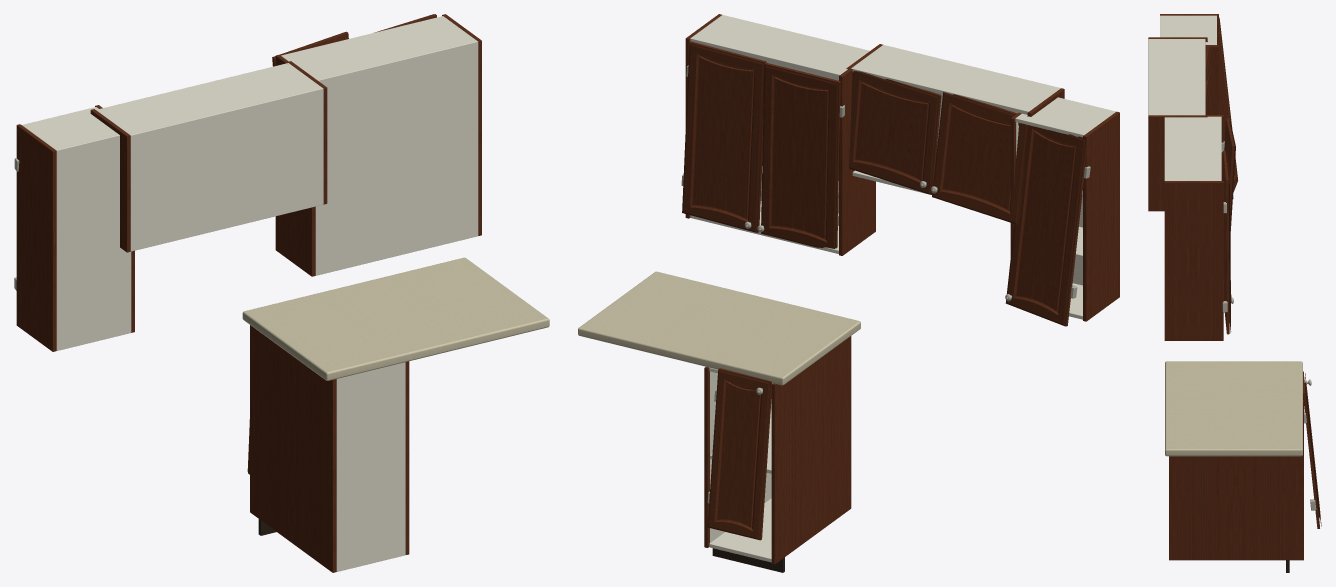
The model's file is cabinetry_shell__rear_run.glb.
The picture shows the model from 3 angles, left to right: view 1: azimuth 30°, elevation 25°; view 2: azimuth 150°, elevation 25°; view 3: azimuth 270°, elevation 25°; orthographic projection. The views are drawn at different scales.
Visible parts, largest first — view 1: upper_microwave_carcass, upper_hood_carcass, microwave_base_carcass, upper_snack_carcass, microwave_landing_countertop; view 2: microwave_base_carcass, microwave_landing_countertop, upper_microwave_left, upper_microwave_right, upper_snack_door, upper_snack_carcass, upper_microwave_carcass, upper_hood_right, microwave_base_door, upper_hood_left, upper_hood_carcass; view 3: microwave_base_carcass, upper_microwave_carcass, microwave_landing_countertop, upper_hood_carcass, upper_snack_carcass, upper_microwave_left, upper_snack_door, microwave_base_door, upper_microwave_right, upper_hood_right.
Part boxes in pixels (x1,y1,x2,y2): upper_microwave_carcass: [275, 14, 481, 276]; upper_hood_carcass: [90, 61, 327, 252]; microwave_base_carcass: [250, 325, 409, 572]; upper_snack_carcass: [16, 105, 134, 351]; microwave_landing_countertop: [242, 257, 549, 380]; microwave_base_carcass: [704, 336, 851, 572]; microwave_landing_countertop: [578, 271, 860, 385]; upper_microwave_left: [681, 41, 766, 232]; upper_microwave_right: [757, 62, 844, 248]; upper_snack_door: [1005, 116, 1090, 326]; upper_snack_carcass: [1010, 97, 1119, 321]; upper_microwave_carcass: [685, 14, 875, 255]; upper_hood_right: [931, 92, 1027, 224]; microwave_base_door: [707, 368, 771, 540]; upper_hood_left: [849, 67, 941, 194]; upper_hood_carcass: [846, 44, 1064, 193]; microwave_base_carcass: [1169, 372, 1303, 572]; upper_microwave_carcass: [1164, 115, 1223, 340]; microwave_landing_countertop: [1165, 361, 1302, 456]; upper_hood_carcass: [1148, 37, 1207, 211]; upper_snack_carcass: [1160, 14, 1218, 112]; upper_microwave_left: [1222, 151, 1233, 334]; upper_snack_door: [1217, 17, 1238, 198]; microwave_base_door: [1303, 371, 1321, 528]; upper_microwave_right: [1221, 118, 1235, 300]; upper_hood_right: [1205, 46, 1220, 114].
Size of the model in its own units: 2.36 by 2.31 by 0.8662.
5 materials, 2 textured.
